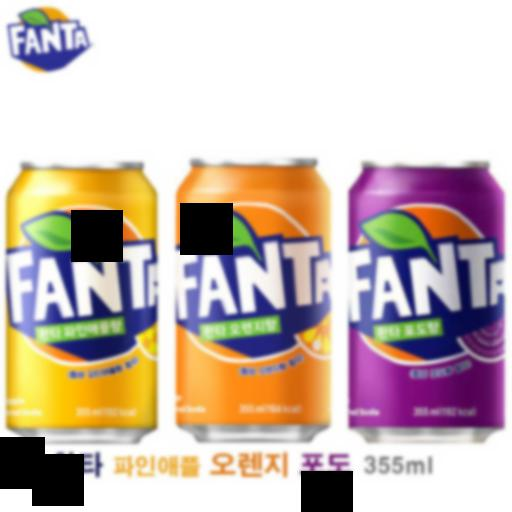fanta_orange: (166, 149, 331, 445)
